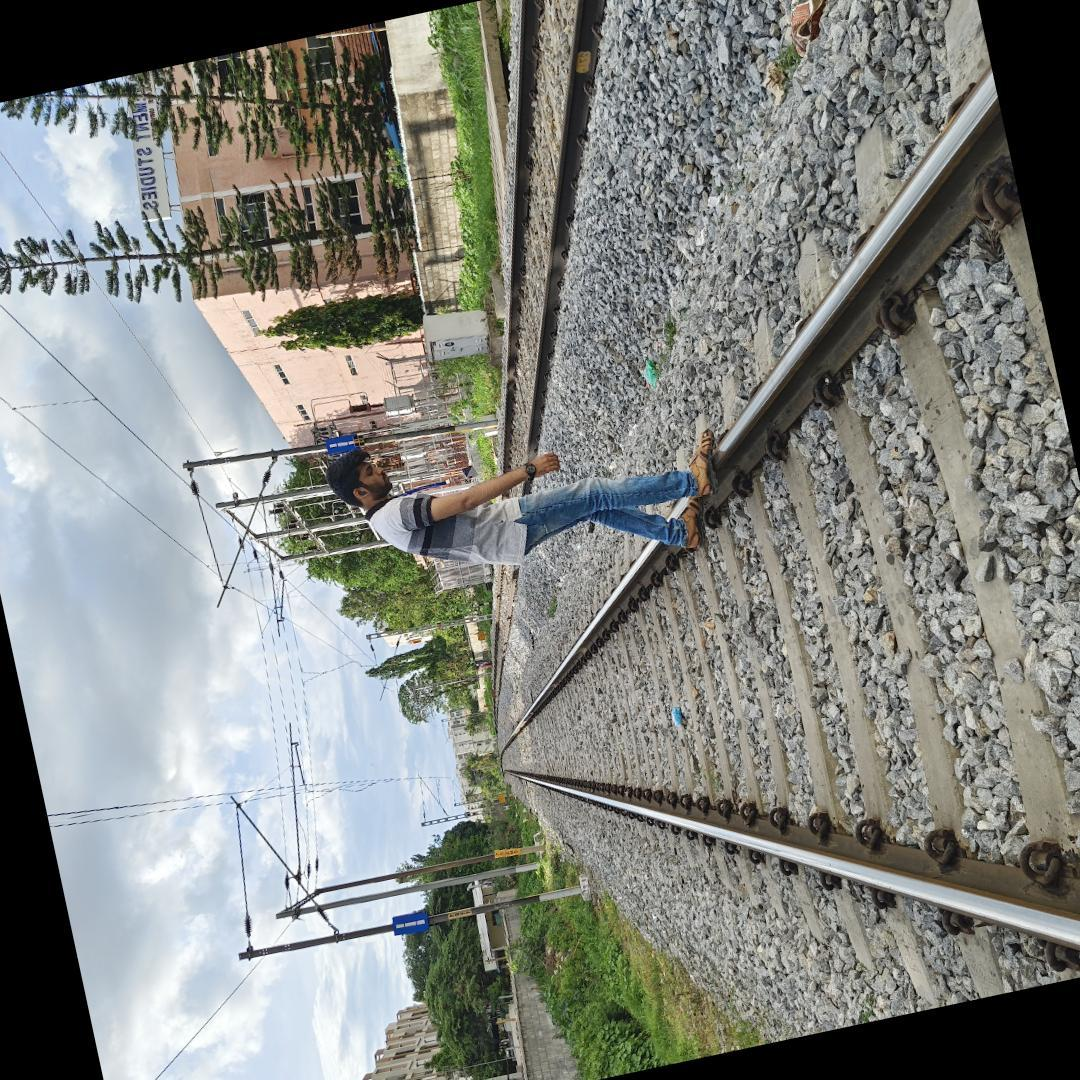standing: (313, 369, 745, 636)
